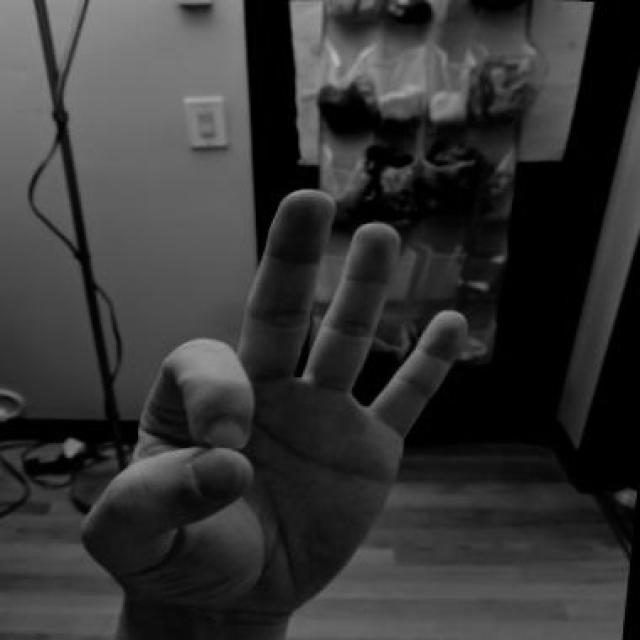F: (62, 167, 490, 638)
